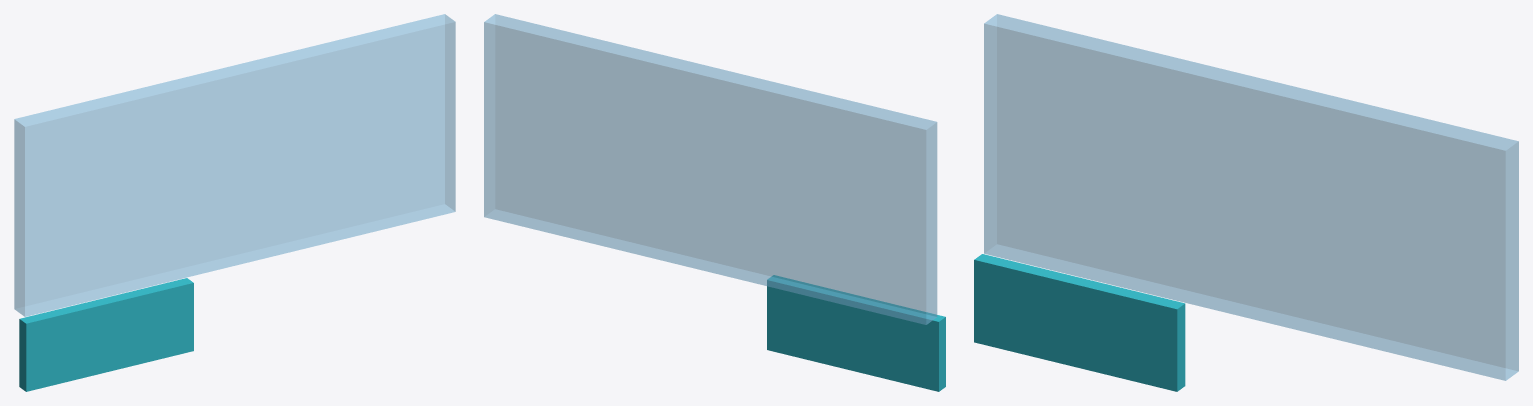
Rendered from cover.security_kiosk.glb.
3 renders of one model, left to right at view 1: azimuth 30°, elevation 25°; view 2: azimuth 150°, elevation 25°; view 3: azimuth 330°, elevation 25°, orthographic. The views are drawn at different scales.
Parts seen in each view (by area): view 1: kiosk_glass, terminal_glow; view 2: kiosk_glass, terminal_glow; view 3: kiosk_glass, terminal_glow.
Boxes of the visible parts, x1,y1,x2,y2 form: kiosk_glass: (14, 14, 455, 316); terminal_glow: (19, 278, 193, 391); kiosk_glass: (484, 14, 937, 324); terminal_glow: (767, 275, 945, 391); kiosk_glass: (984, 14, 1518, 380); terminal_glow: (974, 254, 1185, 391).
Size of what is drawn, in the model's own units: 1.87 by 1.07 by 0.115.
